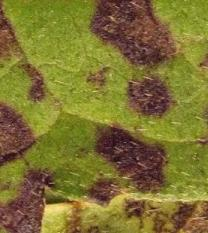Tomato Septoria leaf spot: (0, 0, 208, 233), (0, 44, 208, 233)
